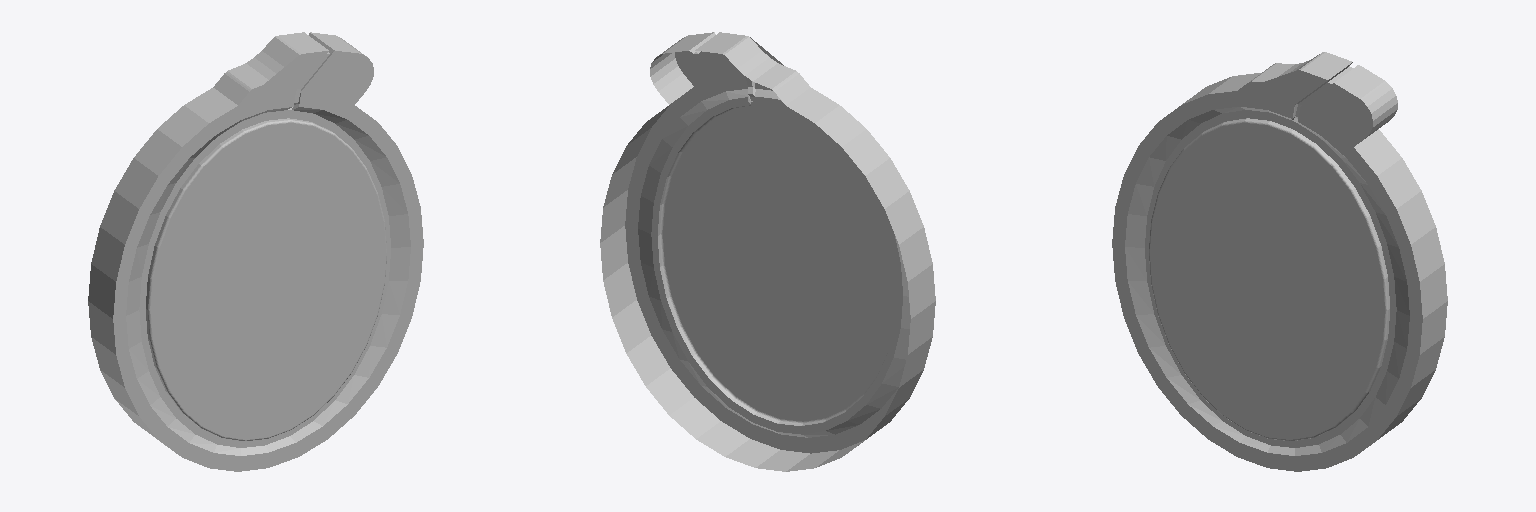
File: SetA_WallSymbol_Style_04.obj
3 renders of one model, left to right at view 1: azimuth 30°, elevation 25°; view 2: azimuth 150°, elevation 25°; view 3: azimuth 330°, elevation 25°, orthographic.
Visible parts, largest first — view 1: SetA_WallSymbol_Style_04; view 2: SetA_WallSymbol_Style_04; view 3: SetA_WallSymbol_Style_04.
Part boxes in pixels (left/top/right/bottom): SetA_WallSymbol_Style_04: left=88, top=32, right=423, bottom=471; SetA_WallSymbol_Style_04: left=600, top=32, right=935, bottom=471; SetA_WallSymbol_Style_04: left=1112, top=52, right=1447, bottom=471.
Bounding box in the file's own units: 0.1385 × 0.1729 × 0.0193.